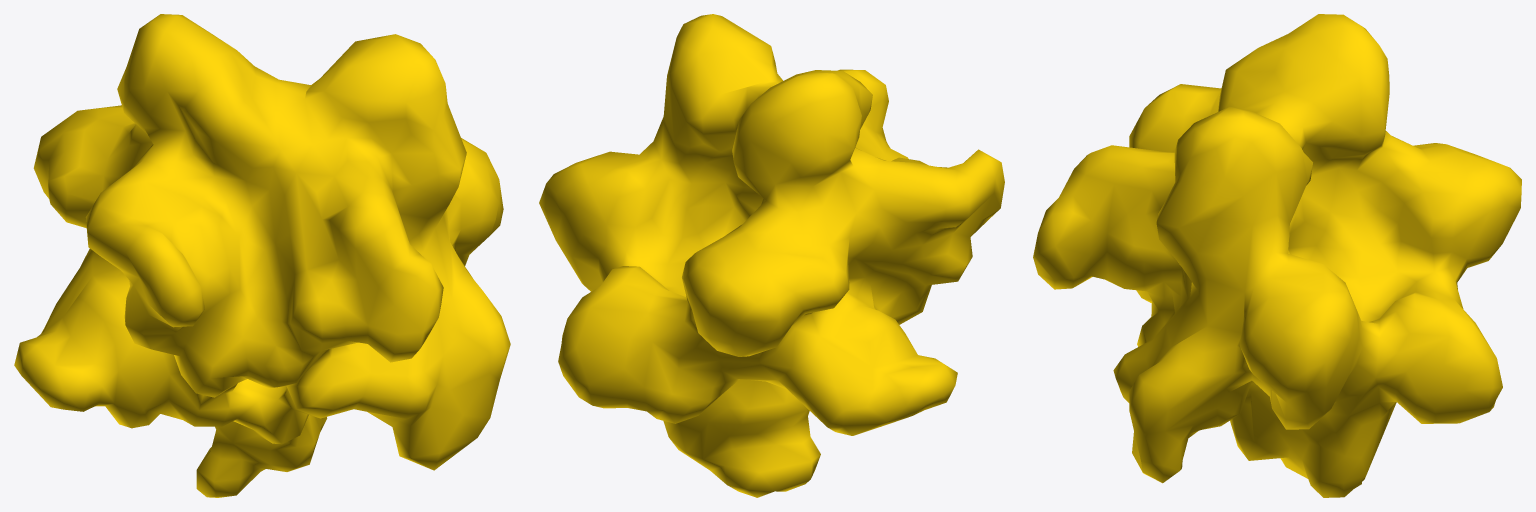
File: fpen01G4.dae
The picture shows the model from 3 angles, left to right: view 1: azimuth 30°, elevation 25°; view 2: azimuth 150°, elevation 25°; view 3: azimuth 270°, elevation 25°; orthographic projection. The views are drawn at different scales.
Visible parts, largest first — view 1: CoarseMS_fpen01; view 2: CoarseMS_fpen01; view 3: CoarseMS_fpen01.
Boxes of the visible parts, x1,y1,x2,y2 form: CoarseMS_fpen01: [14, 14, 510, 497]; CoarseMS_fpen01: [539, 14, 1004, 497]; CoarseMS_fpen01: [1033, 14, 1521, 497].
Bounding box in the file's own units: 100 × 99.57 × 99.71.
